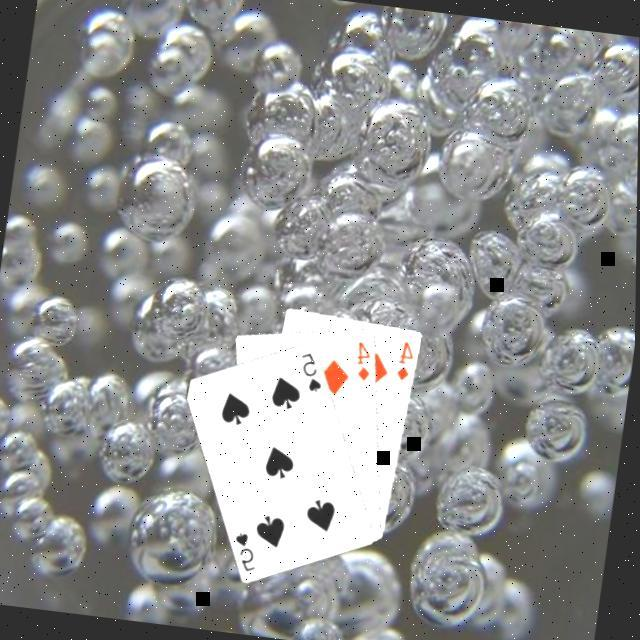4D: (353, 336, 381, 383), (395, 335, 421, 383)
5S: (296, 347, 332, 394), (231, 528, 267, 575)
